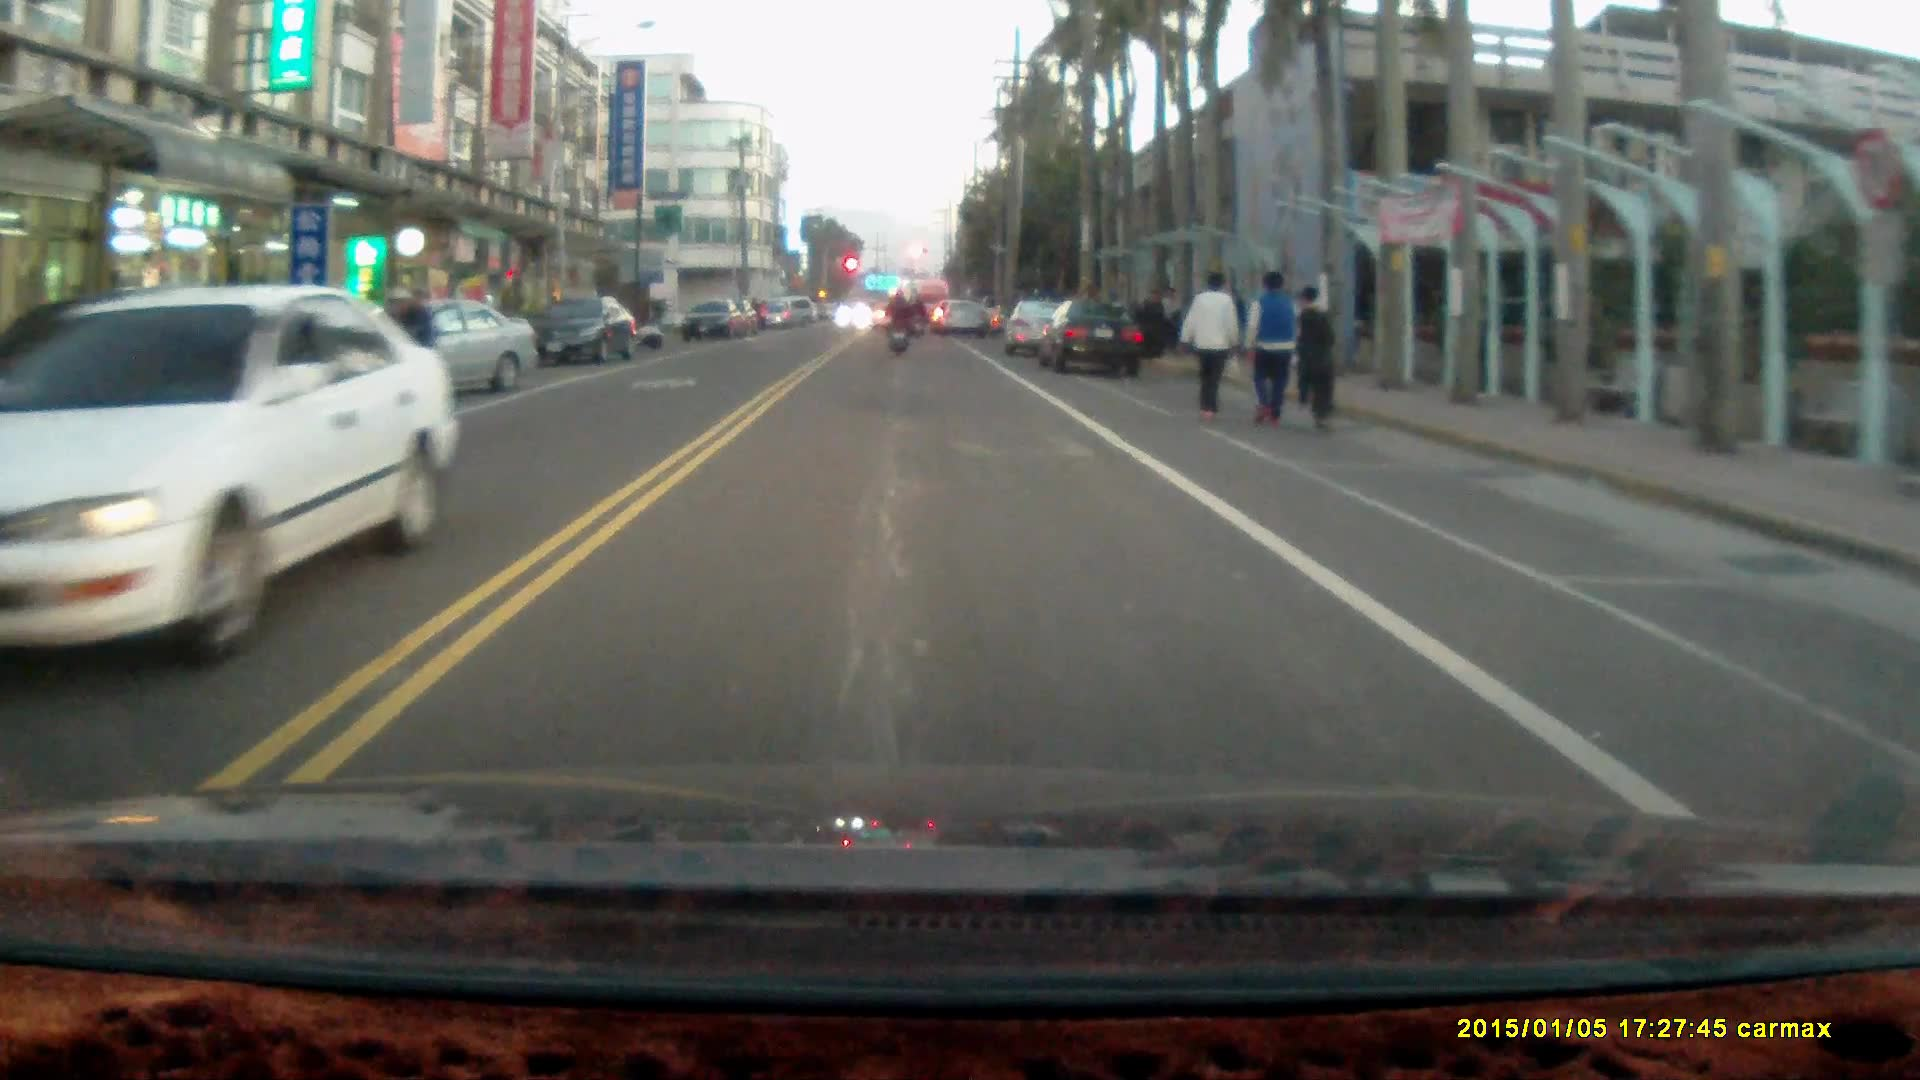pedestrian: (1179, 267, 1239, 426), (1243, 266, 1300, 429), (1290, 287, 1339, 435)
rider: (883, 285, 914, 356)
vehicle: (1, 286, 454, 660), (397, 302, 536, 402), (1040, 298, 1150, 379), (532, 295, 637, 370), (1006, 300, 1090, 361), (680, 297, 747, 340)
